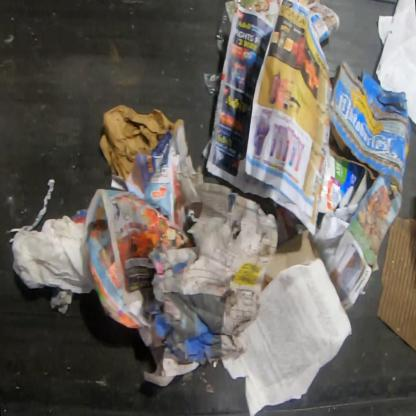cardboard: (326, 59, 414, 196), (376, 214, 416, 353), (262, 229, 320, 280), (318, 152, 365, 212)
soft_plastic: (215, 9, 236, 56), (204, 72, 222, 95)
